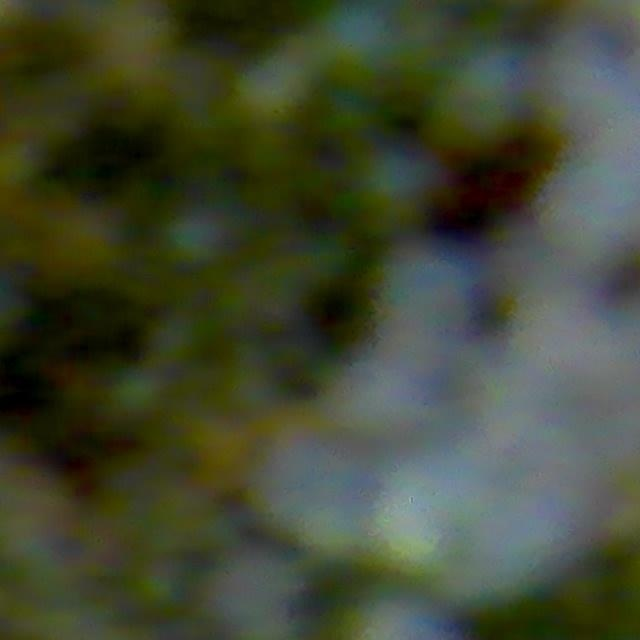SeaGrape: (367, 238, 477, 345), (263, 421, 373, 528), (438, 35, 536, 141), (312, 0, 404, 82), (352, 143, 441, 226), (230, 45, 317, 128), (160, 206, 228, 269)
